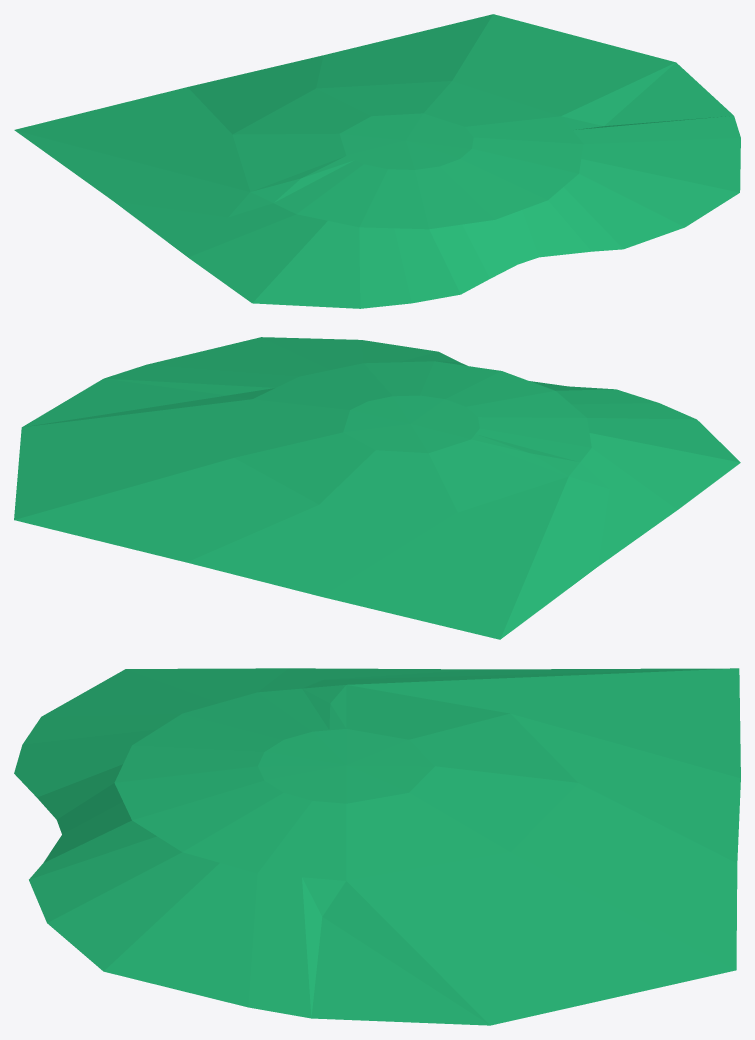
File: gras.fbx
The picture shows the model from 3 angles, top to bottom: view 1: azimuth 30°, elevation 25°; view 2: azimuth 150°, elevation 25°; view 3: azimuth 270°, elevation 25°; orthographic projection. The views are drawn at different scales.
Visible parts, largest first — view 1: Sphere; view 2: Sphere; view 3: Sphere.
Boxes of the visible parts, box(x1,y1,x2,y2) form: Sphere: box(14, 14, 740, 308); Sphere: box(14, 337, 740, 639); Sphere: box(14, 668, 740, 1025).
Bounding box in the file's own units: 1179 × 83.83 × 1014.
